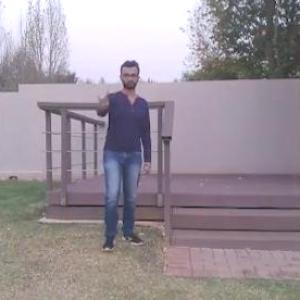takeoff-hand: (90, 86, 115, 115)
